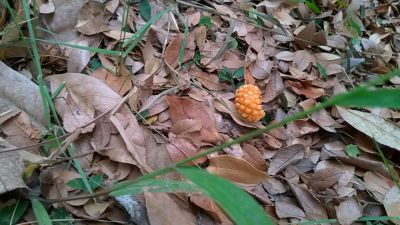eggs: (232, 83, 269, 124)
